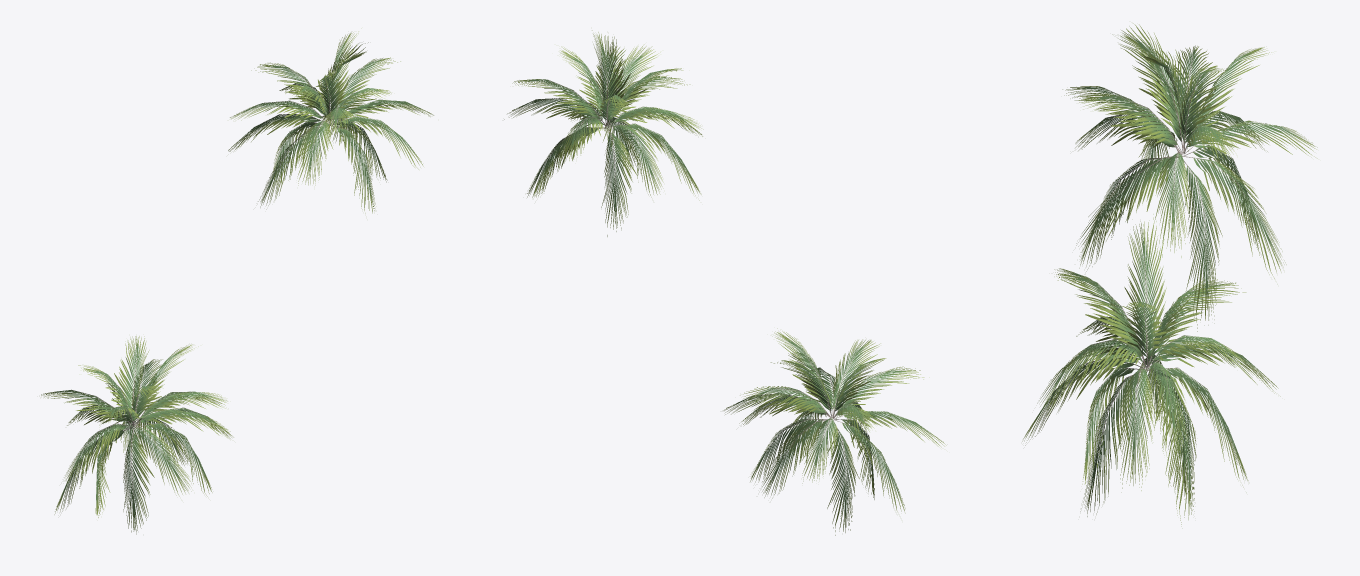
The model's file is m_palm_p2_18_leaf_0.001_lev2.glb.
The picture shows the model from 3 angles, left to right: view 1: azimuth 30°, elevation 25°; view 2: azimuth 150°, elevation 25°; view 3: azimuth 270°, elevation 25°; orthographic projection. The views are drawn at different scales.
Parts seen in each view (by area): view 1: m_palm_p2_18_leaf_0.001_lev2; view 2: m_palm_p2_18_leaf_0.001_lev2; view 3: m_palm_p2_18_leaf_0.001_lev2.
Boxes of the visible parts, x1,y1,x2,y2 form: m_palm_p2_18_leaf_0.001_lev2: (41, 28, 433, 534); m_palm_p2_18_leaf_0.001_lev2: (504, 30, 946, 535); m_palm_p2_18_leaf_0.001_lev2: (1022, 23, 1317, 528).
Size of the model in its own units: 7.56 by 7.39 by 3.41.
1 material, 1 textured.
